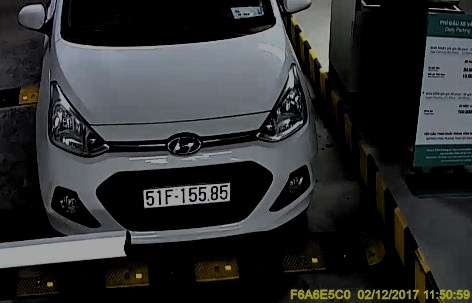plate: (140, 185, 235, 209)
